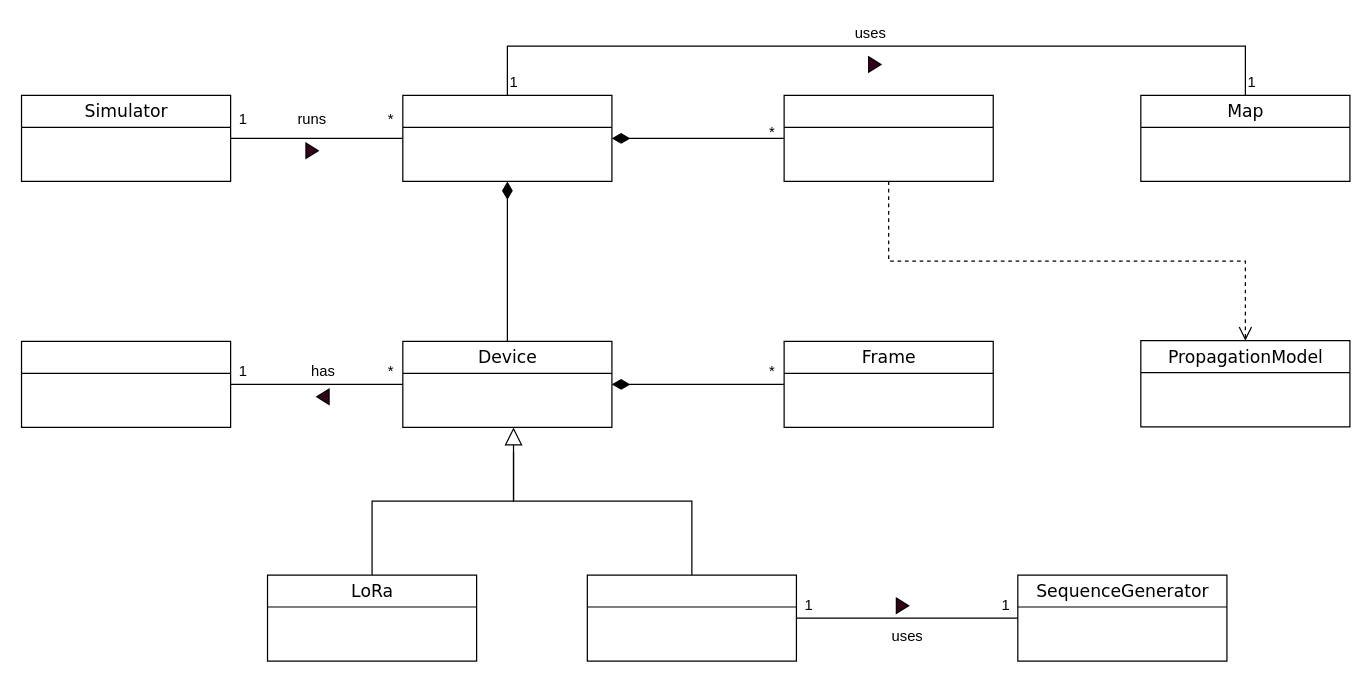
This 1371x683 diagram has some shape labels left out. The box of each missing label's shape, as (x1, y1, x2, y2) in pixels:
Gateway: (783, 94, 993, 181)
LoRaE: (586, 574, 796, 661)
Modulation: (20, 340, 231, 427)
Simulation: (402, 94, 612, 181)
